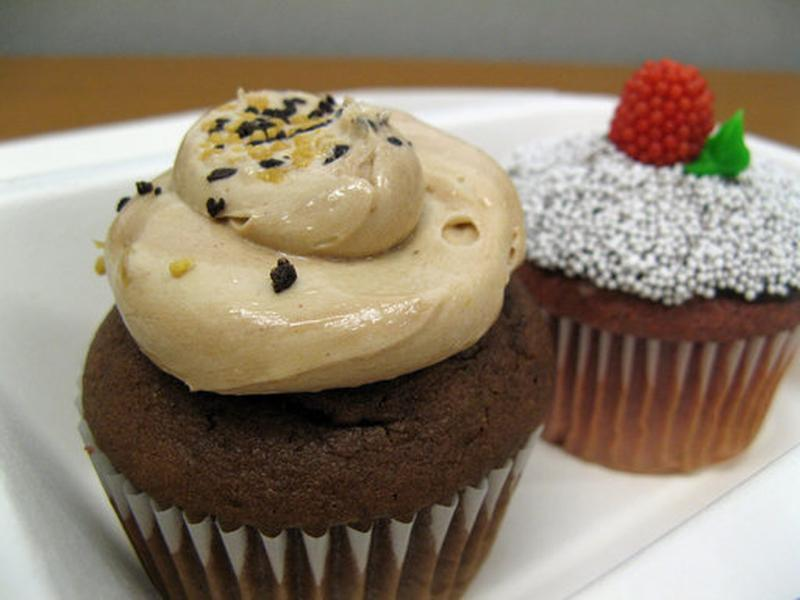cup_cake: (65, 65, 572, 600)
